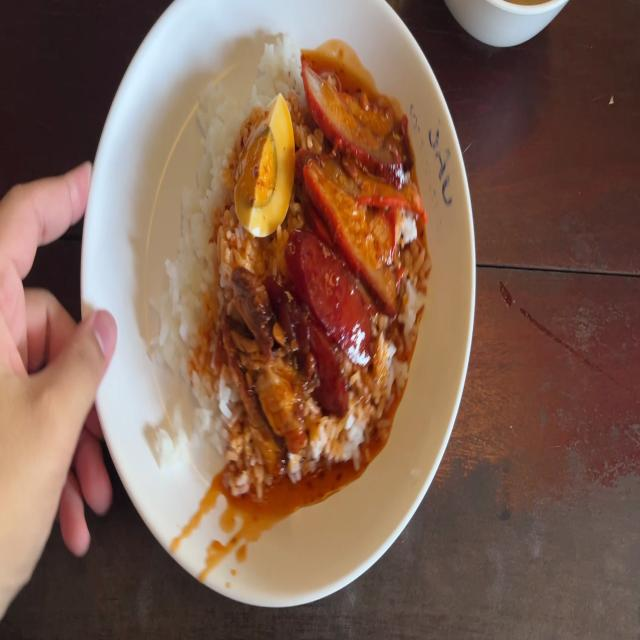01boiled_egg: (242, 108, 290, 228)
01chainese_sausage: (283, 260, 374, 382)
01crispy_pork: (231, 354, 315, 459), (232, 274, 271, 371)
01red_pork: (309, 80, 414, 259)
01red_pork_and_crispy_pork: (178, 51, 414, 464)
01rice: (149, 214, 228, 446), (194, 93, 235, 202), (244, 36, 287, 104)
